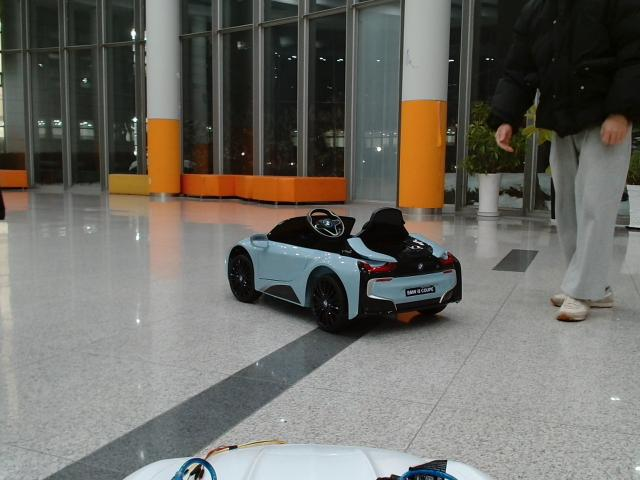car: (226, 207, 464, 332)
